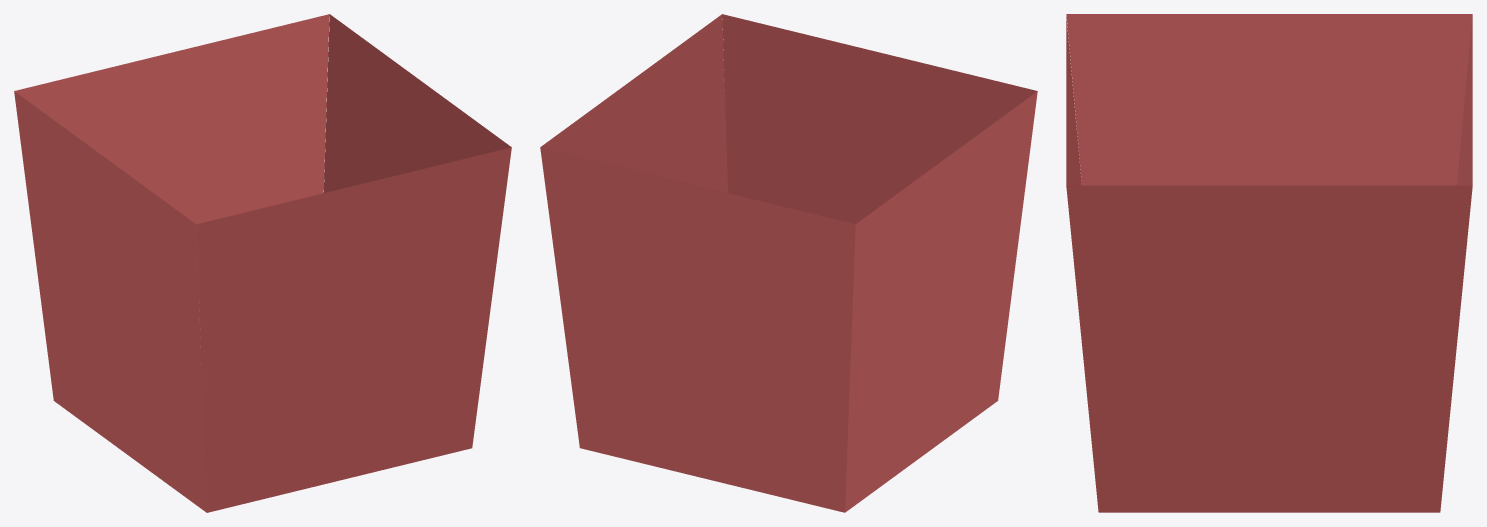
File: snow_mt.glb
3 renders of one model, left to right at view 1: azimuth 30°, elevation 25°; view 2: azimuth 150°, elevation 25°; view 3: azimuth 270°, elevation 25°, orthographic. The views are drawn at different scales.
Parts seen in each view (by area): view 1: snow_mt_col; view 2: snow_mt_col; view 3: snow_mt_col.
Boxes of the visible parts, left/top/right/bottom form: snow_mt_col: left=14, top=14, right=511, bottom=512; snow_mt_col: left=540, top=14, right=1037, bottom=512; snow_mt_col: left=1066, top=14, right=1472, bottom=512.
Size of the model in its own units: 23.8 by 22.02 by 23.8.
